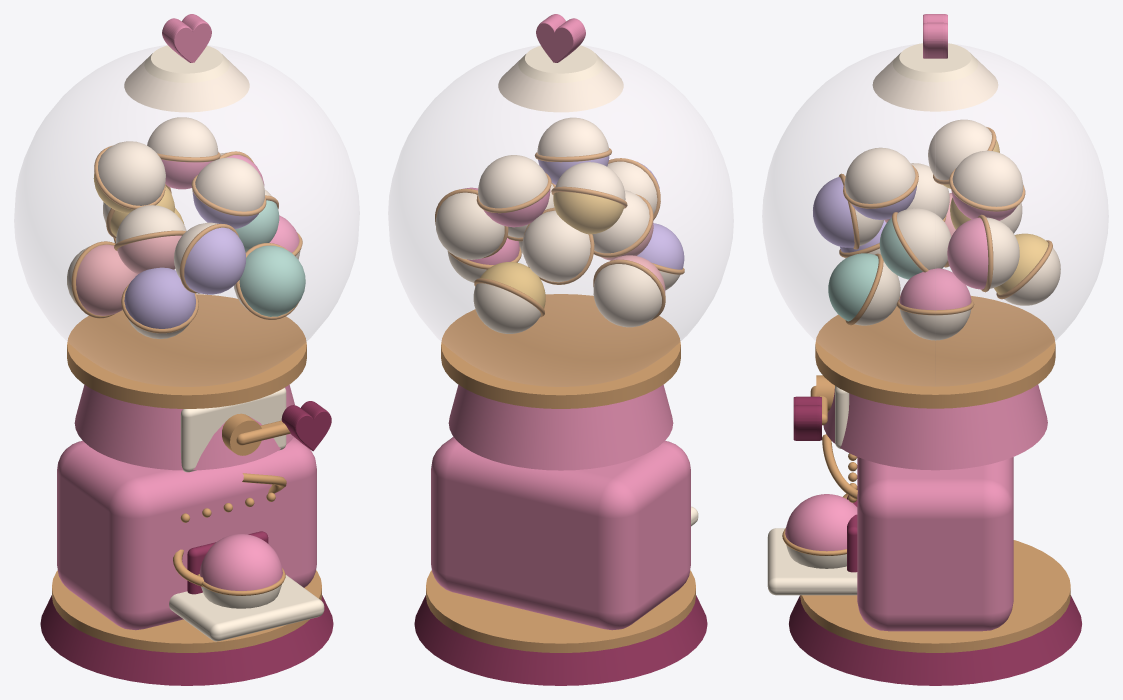
The model's file is date-capsule-machine.glb.
The picture shows the model from 3 angles, left to right: view 1: azimuth 30°, elevation 25°; view 2: azimuth 150°, elevation 25°; view 3: azimuth 270°, elevation 25°; orthographic projection.
Visible parts, largest first — view 1: globe, lower-body, upper (×10), neck-collar, lower (×6), plinth, neck, crown, foot-gold, capsule-tray, crank-plate, crown-heart (+6 smaller); view 2: globe, lower-body, lower (×9), neck-collar, neck, plinth, foot-gold, upper (×6), crown, crown-heart, seam; view 3: globe, lower-body, lower (×11), neck-collar, upper (×9), neck, plinth, foot-gold, crown, capsule-tray, handle, crown-heart (+4 smaller).
Part boxes in pixels (x1,y1,x2,y2): globe: (14, 46, 359, 386); lower-body: (57, 437, 316, 630); upper (×10): (76, 159, 305, 590); neck-collar: (67, 294, 306, 408); lower (×6): (98, 117, 281, 608); plinth: (40, 595, 333, 685); neck: (74, 384, 294, 470); crown: (124, 45, 249, 112); foot-gold: (52, 570, 321, 652); capsule-tray: (169, 575, 324, 641); crank-plate: (180, 387, 286, 472); crown-heart: (162, 14, 211, 62); globe: (388, 46, 733, 386); lower-body: (431, 437, 690, 630); lower (×9): (435, 117, 661, 333); neck-collar: (441, 294, 680, 408); neck: (448, 384, 673, 470); plinth: (414, 595, 707, 685); foot-gold: (426, 570, 695, 652); upper (×6): (467, 156, 684, 308); crown: (498, 45, 623, 112); crown-heart: (536, 14, 585, 62); seam: (593, 259, 665, 320); globe: (762, 45, 1108, 386); lower-body: (857, 457, 1013, 631); lower (×11): (786, 119, 1060, 568); neck-collar: (815, 296, 1055, 408); upper (×9): (785, 177, 1048, 551); neck: (823, 384, 1047, 470); plinth: (789, 595, 1081, 685); foot-gold: (800, 540, 1070, 652); crown: (872, 43, 998, 111); capsule-tray: (767, 528, 857, 595); handle: (793, 396, 821, 440); crown-heart: (923, 14, 947, 58).
Bounding box in the file's own units: 1.82 × 3.5 × 1.82.
